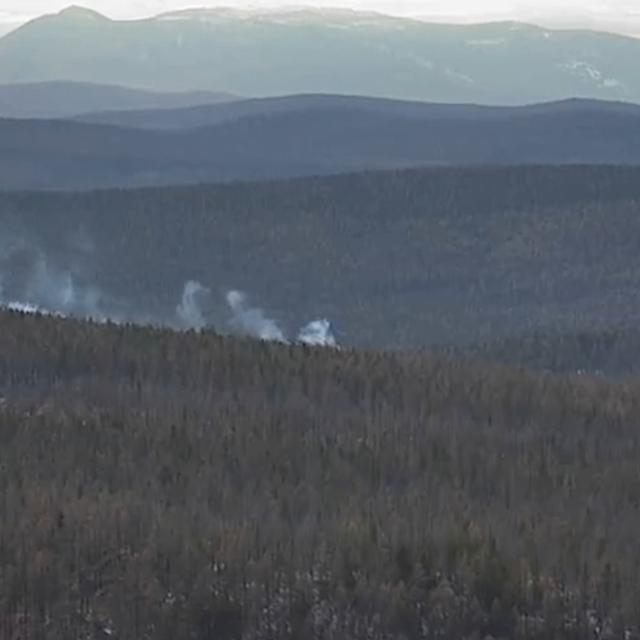Smoke: (51, 274, 123, 324), (233, 296, 289, 346), (166, 276, 212, 334), (0, 275, 39, 315), (294, 314, 340, 347)
